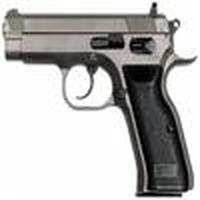gun: (1, 6, 199, 140)
